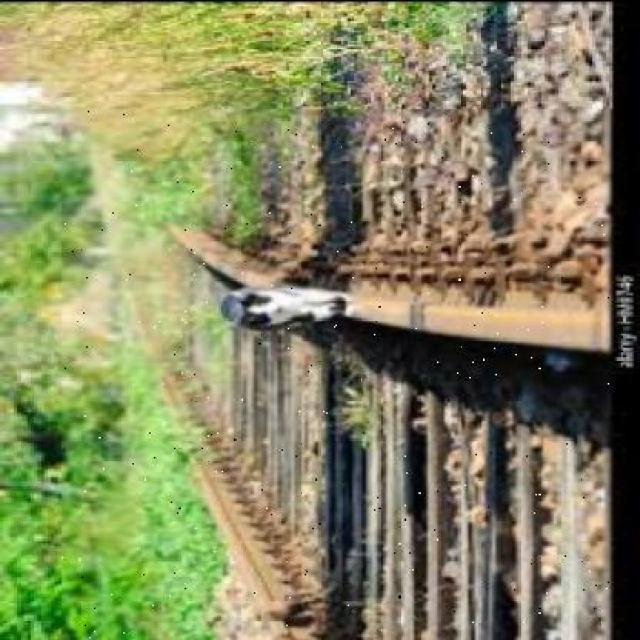rail: (64, 109, 615, 640)
